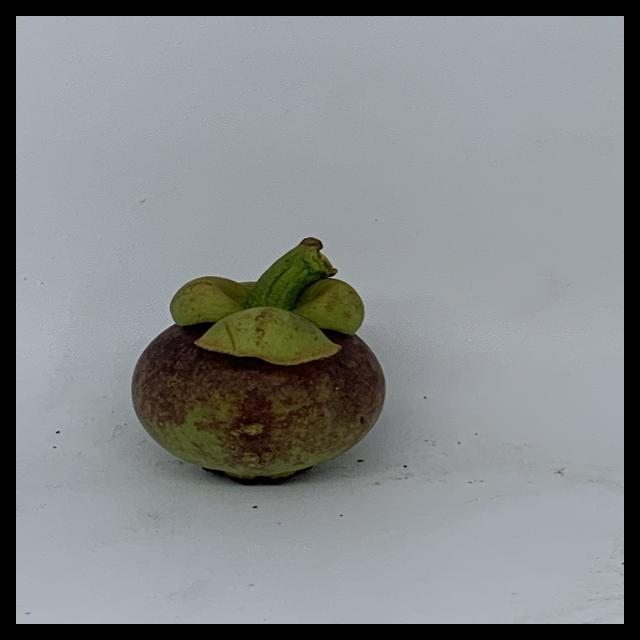mangosteen: (118, 233, 396, 487)
